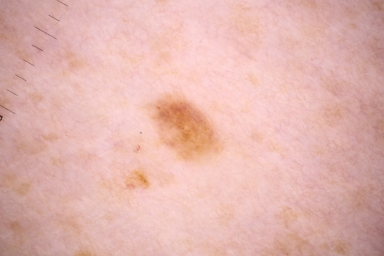melanoma: (146, 97, 220, 159)
